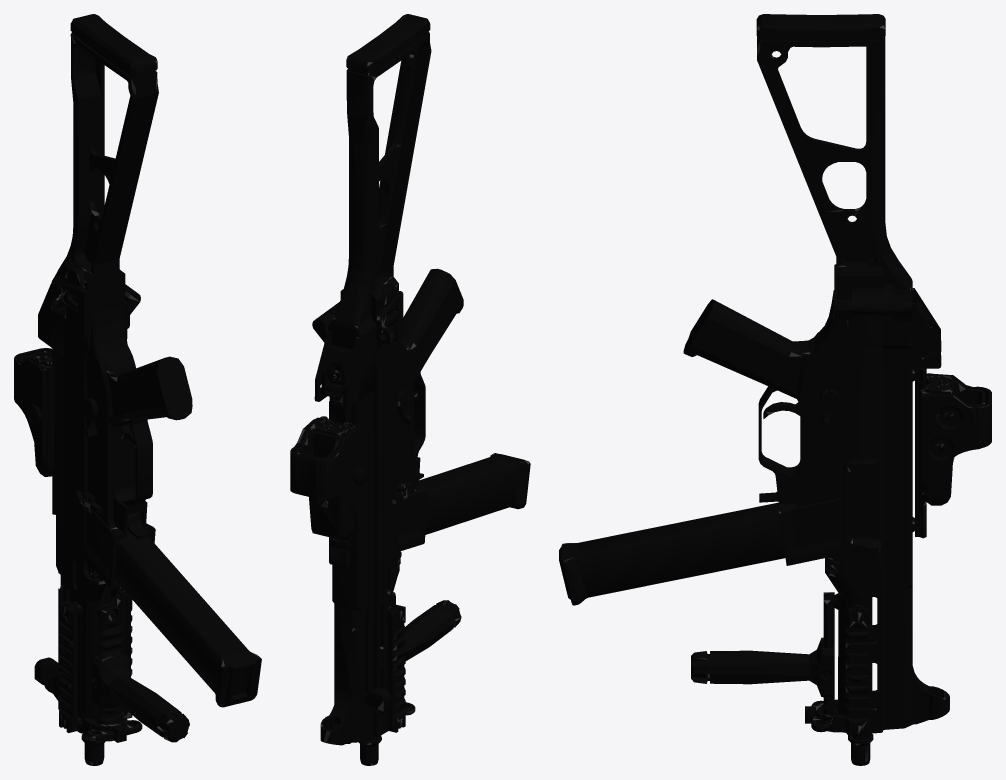
Rendered from UMP45__Light_Pistol.fbx.
3 renders of one model, left to right at view 1: azimuth 30°, elevation 25°; view 2: azimuth 150°, elevation 25°; view 3: azimuth 270°, elevation 25°, orthographic. The views are drawn at different scales.
Parts seen in each view (by area): view 1: asset_UMP45.001; view 2: asset_UMP45.001; view 3: asset_UMP45.001.
Part boxes in pixels (x1,y1,x2,y2): asset_UMP45.001: (14, 14, 261, 765); asset_UMP45.001: (290, 14, 530, 765); asset_UMP45.001: (559, 14, 991, 765).
Bounding box in the file's own units: 0.0422 × 0.414 × 0.2184.
